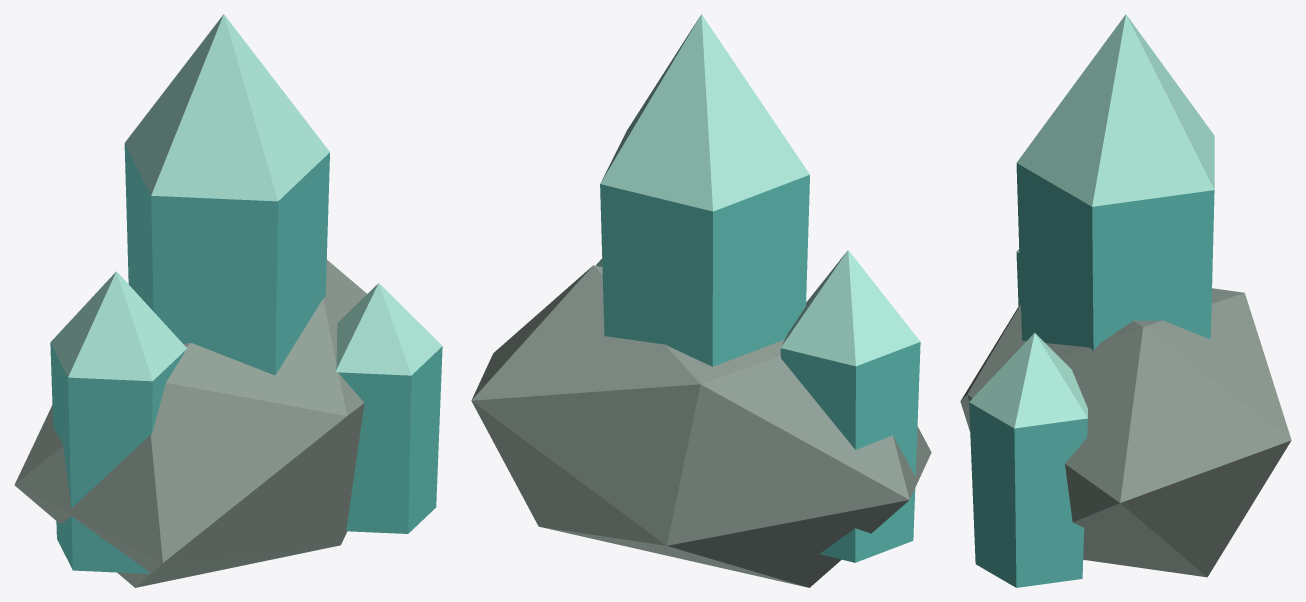
The model's file is krystaly.glb.
3 renders of one model, left to right at view 1: azimuth 30°, elevation 25°; view 2: azimuth 150°, elevation 25°; view 3: azimuth 270°, elevation 25°, orthographic. The views are drawn at different scales.
Parts seen in each view (by area): view 1: material_69d5cc, material_8b9b92, material_b1f0df; view 2: material_8b9b92, material_69d5cc, material_b1f0df; view 3: material_8b9b92, material_69d5cc, material_b1f0df.
Part boxes in pixels (x1,y1,x2,y2): material_69d5cc: (50,143,442,573); material_8b9b92: (14,259,366,587); material_b1f0df: (50,14,442,381); material_8b9b92: (471,265,931,587); material_69d5cc: (600,175,920,562); material_b1f0df: (596,14,920,366); material_8b9b92: (960,288,1291,577); material_69d5cc: (969,163,1214,587); material_b1f0df: (969,14,1214,428).
Size of the model in its own units: 1.32 by 1.66 by 0.9076.
